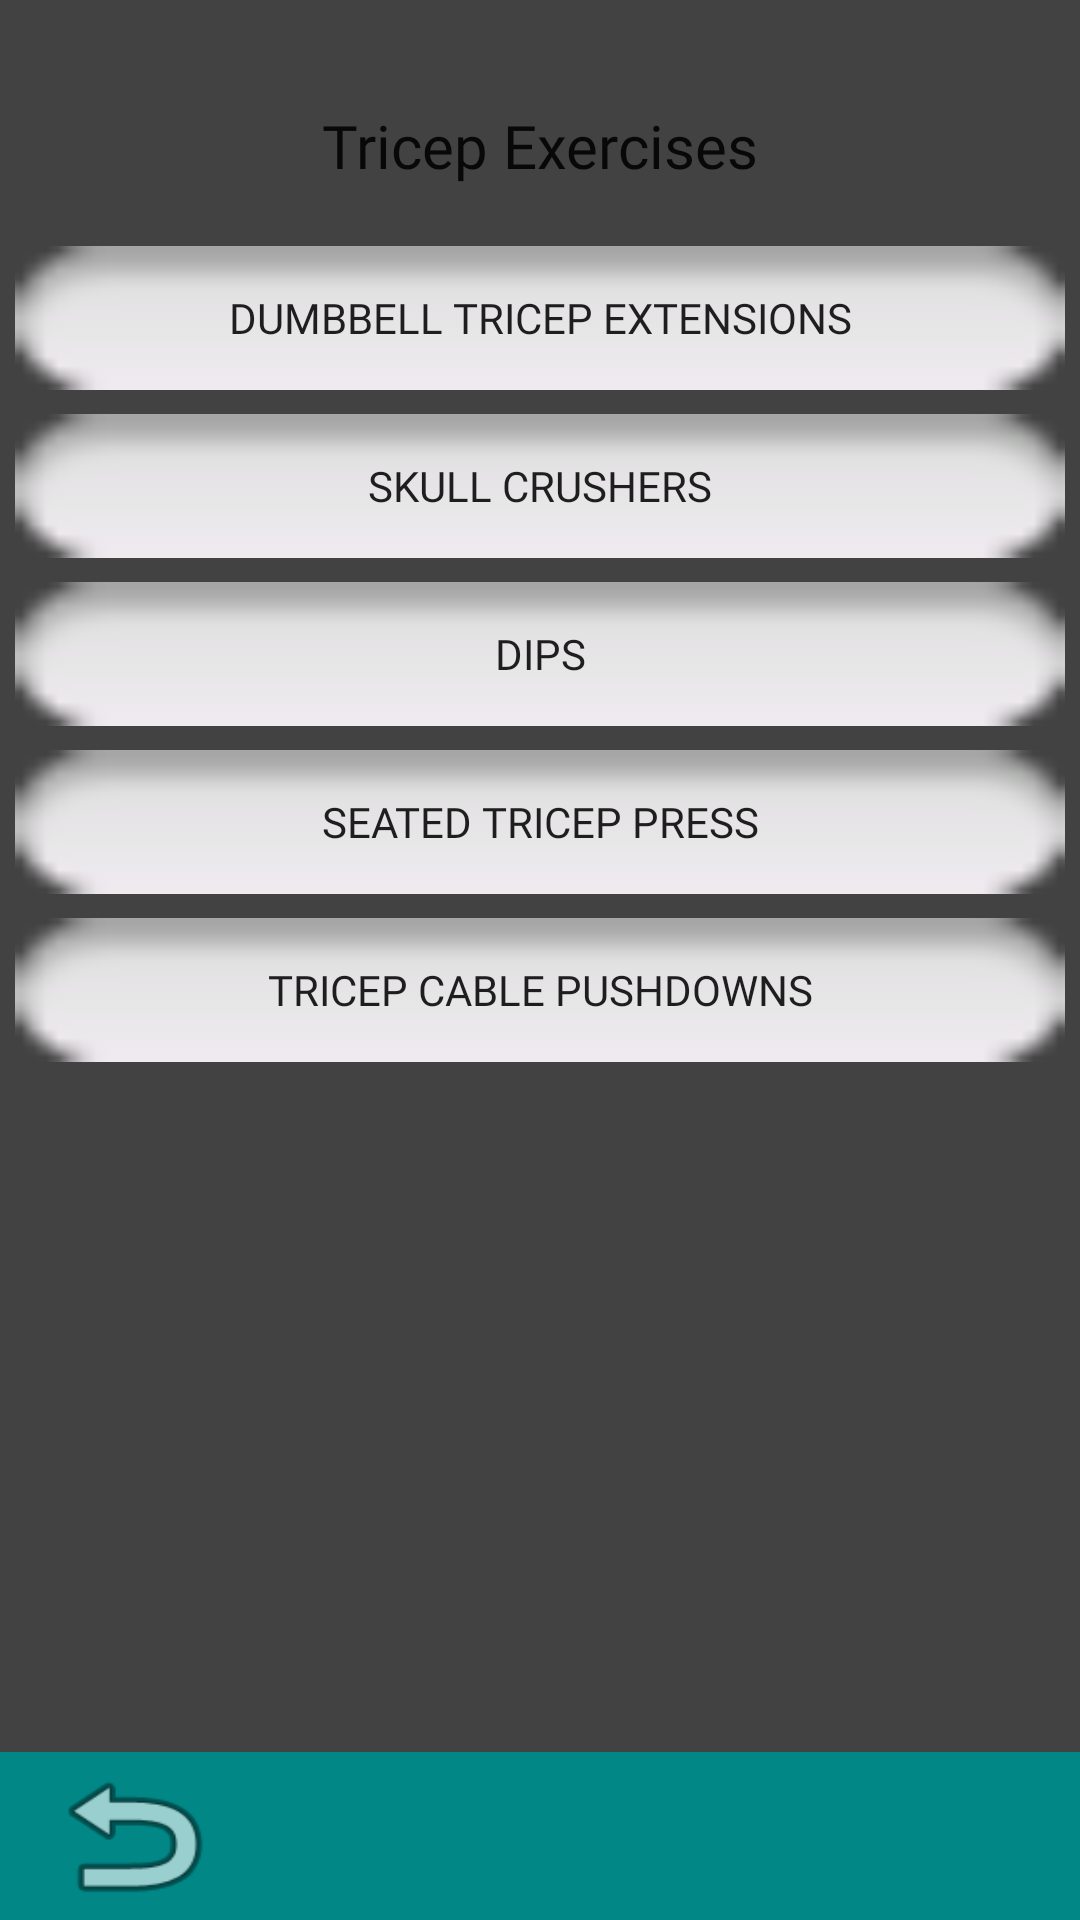

Named icons in this screenshot (1080px×1920px) and their centers, [x,y]:
revert: [135,1837]
